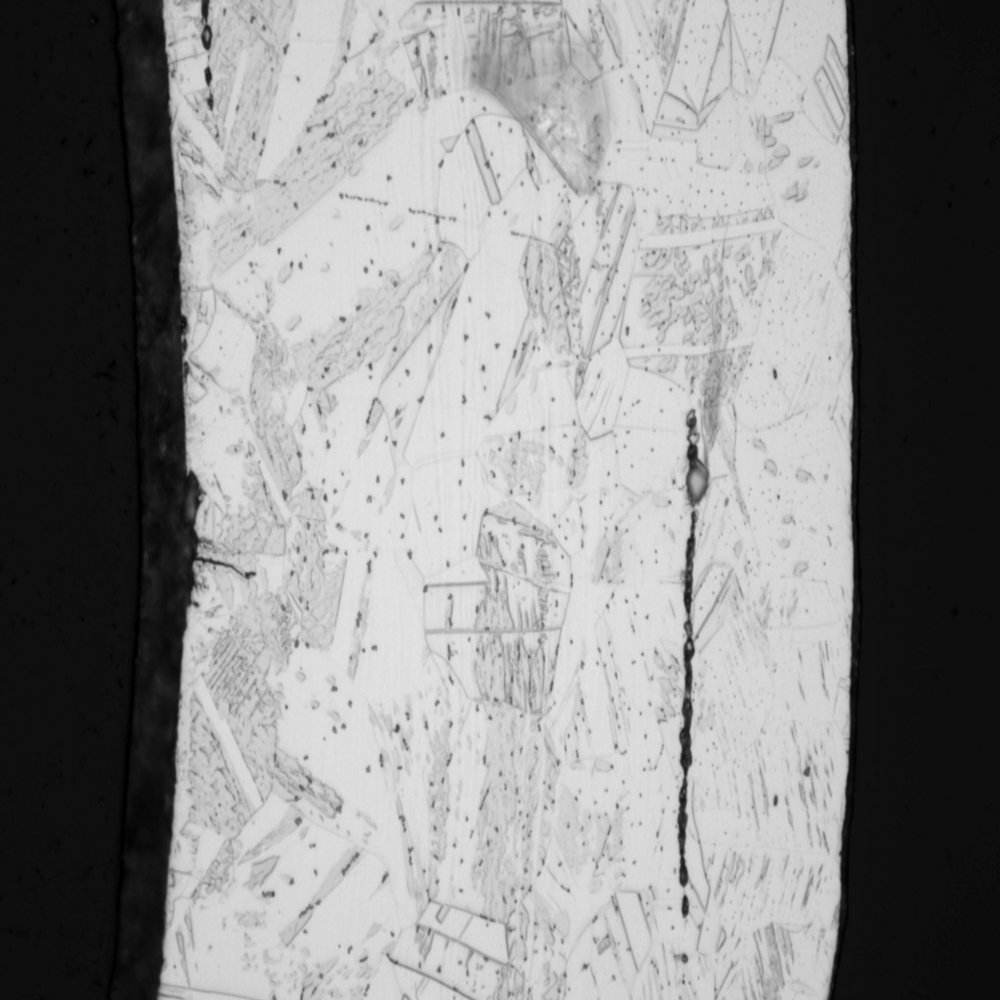crack: (671, 397, 701, 937), (169, 467, 258, 636)
